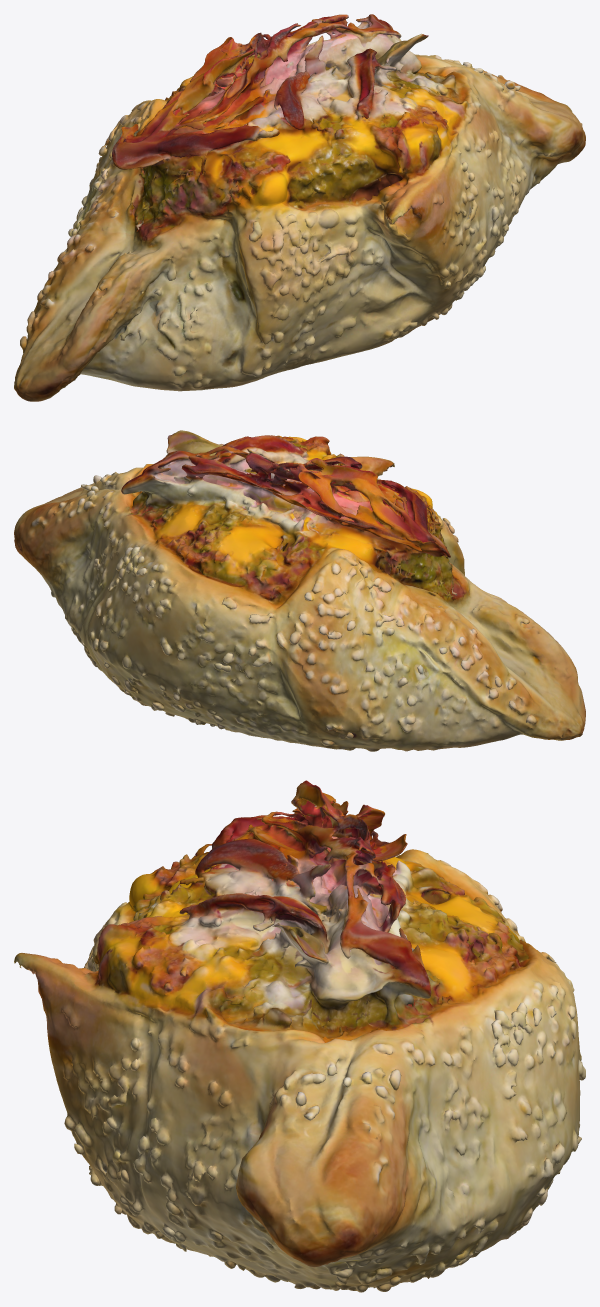
The model's file is Big_Burger_shaders.glb.
3 views of the same model, one above another, from view 1: azimuth 30°, elevation 25°; view 2: azimuth 150°, elevation 25°; view 3: azimuth 270°, elevation 25° (orthographic). The views are drawn at different scales.
Bounding box in the file's own units: 1.98 × 0.8668 × 1.22.
1 material, 1 textured.
